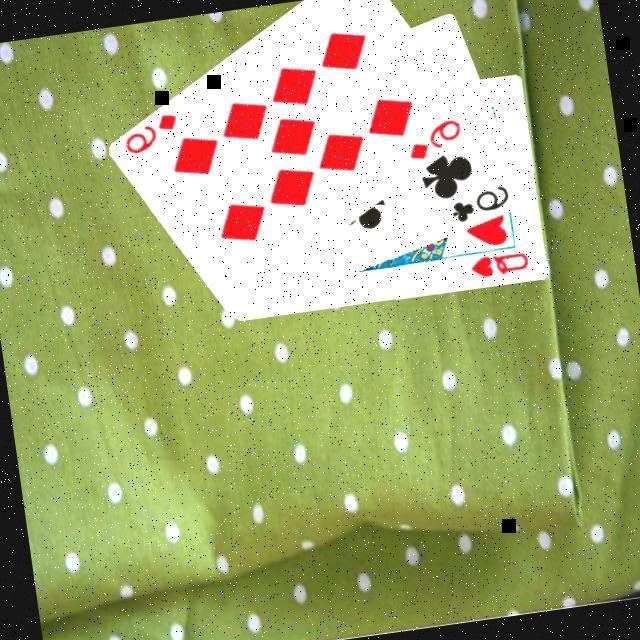6C: (444, 182, 514, 229)
9D: (400, 116, 467, 166), (117, 110, 184, 160)
QH: (465, 248, 532, 285)
